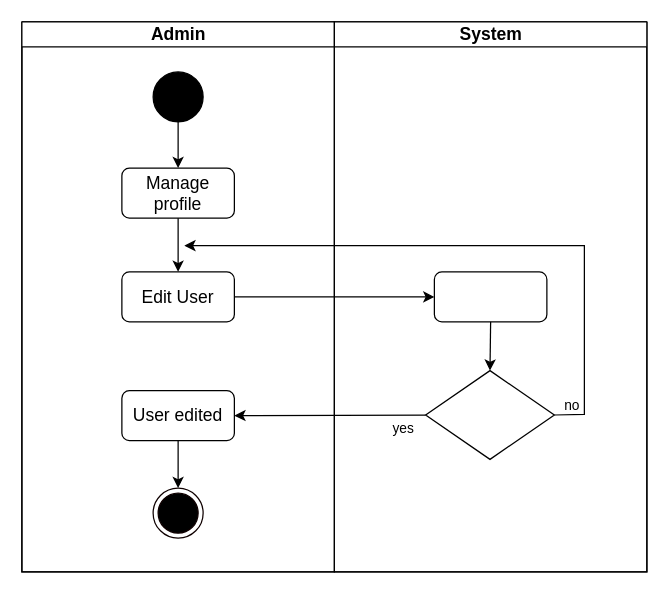
Image size: 669x594. Some labels were removed from this diagram. The centre of each missing label's shape, as x and y in pixels:
if success: (489,414)
validation: (490,296)
